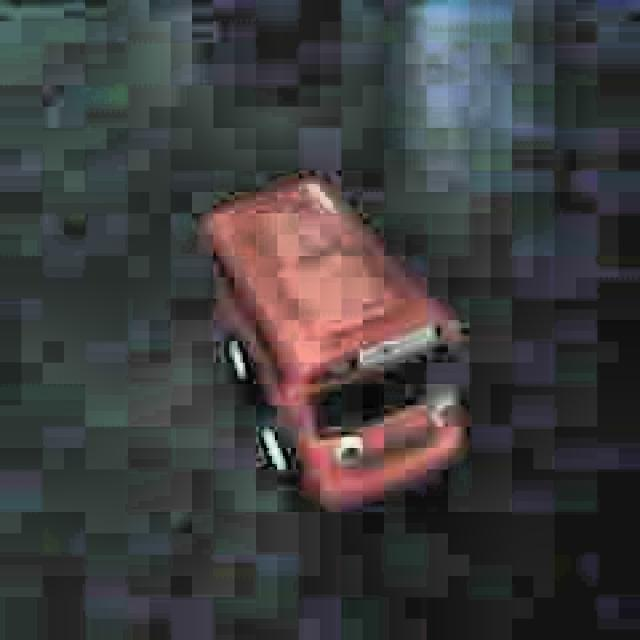bus: (202, 174, 466, 512)
